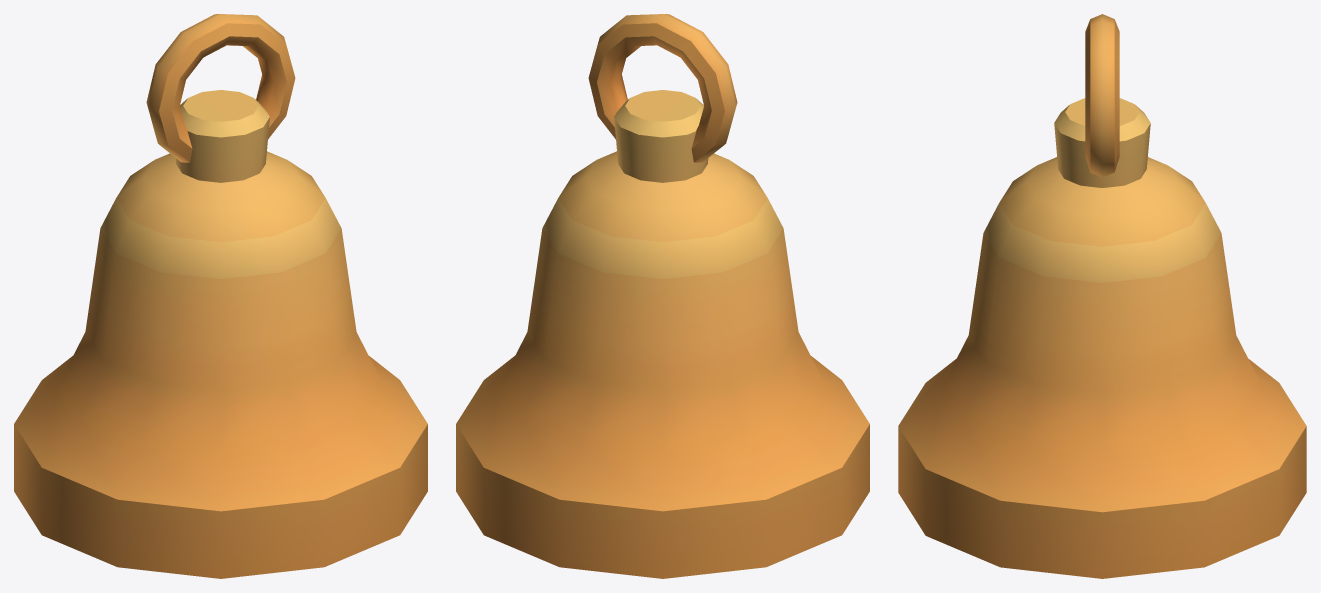
Rendered from bjallra.glb.
The picture shows the model from 3 angles, left to right: view 1: azimuth 30°, elevation 25°; view 2: azimuth 150°, elevation 25°; view 3: azimuth 270°, elevation 25°; orthographic projection.
Visible parts, largest first — view 1: bell, bell_ring; view 2: bell, bell_ring; view 3: bell, bell_ring.
Boxes of the visible parts, x1,y1,x2,y2 form: bell: [14, 90, 427, 578]; bell_ring: [146, 14, 295, 162]; bell: [456, 90, 869, 578]; bell_ring: [588, 14, 737, 162]; bell: [898, 98, 1306, 578]; bell_ring: [1085, 14, 1119, 177].
Bounding box in the file's own units: 0.806 × 1.1 × 0.806.
1 material, 1 textured.
